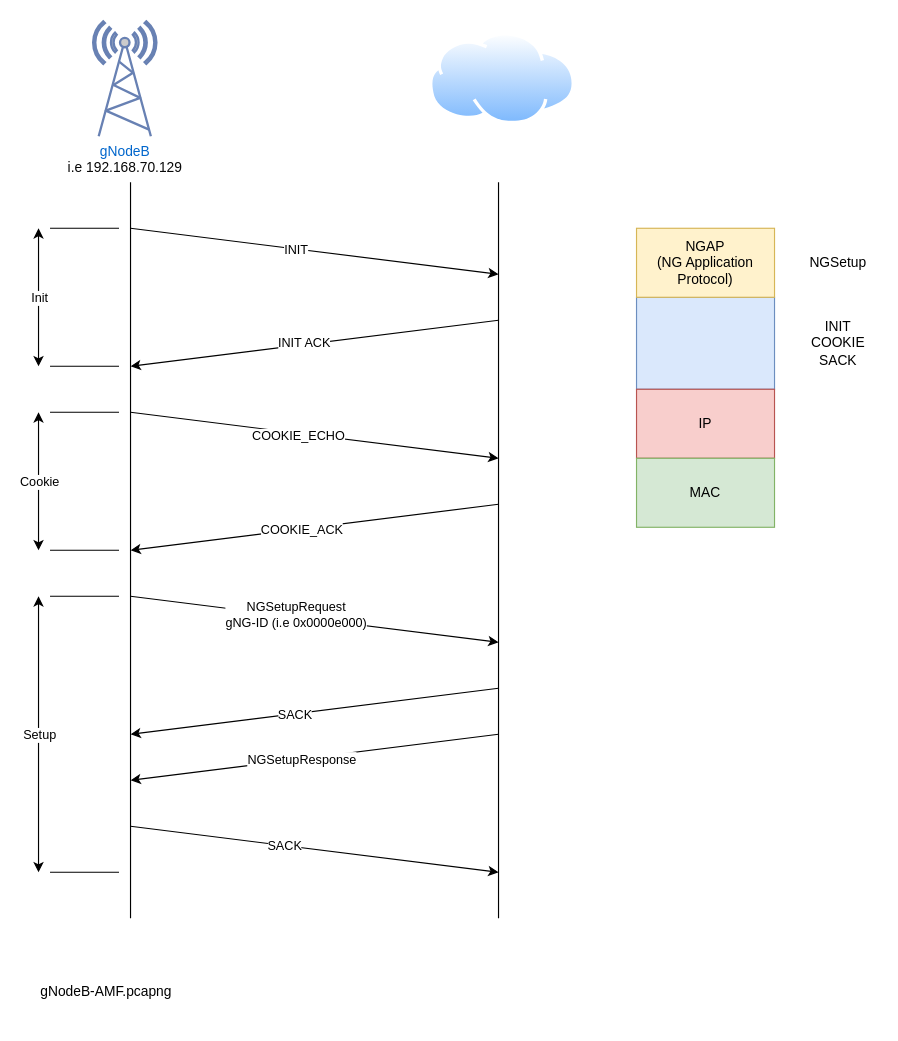
This 898x1041 diagram has some shape labels left out. Each missing label, with the box of its shape:
AMF i.e 192.168.70.132: (429, 32, 575, 124)
SCTP (Stream Control Transmission Protocol): (635, 296, 775, 389)
